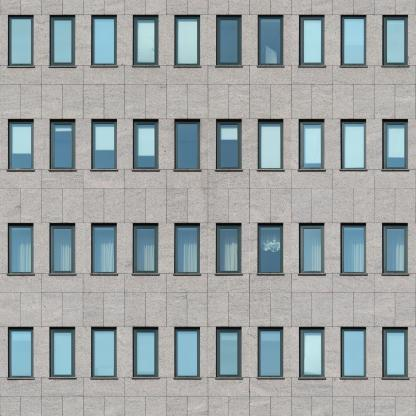Building Outline: (0, 0, 415, 415)
Facade: (0, 0, 416, 416)
Floor: (0, 301, 416, 397), (0, 93, 416, 188), (0, 198, 416, 293), (0, 0, 416, 84), (0, 405, 415, 416)
Floor Slab: (0, 397, 416, 406), (0, 84, 416, 93), (0, 189, 416, 198), (0, 293, 416, 302)
Window: (382, 327, 408, 378), (91, 327, 117, 378), (174, 327, 200, 378), (382, 15, 408, 66), (91, 15, 117, 66), (174, 15, 200, 66), (382, 119, 408, 170), (91, 119, 117, 170), (174, 119, 200, 170), (382, 223, 408, 274), (91, 223, 117, 274), (174, 223, 200, 274), (8, 327, 33, 378), (50, 327, 75, 378), (133, 327, 158, 378), (216, 327, 241, 378), (258, 327, 283, 378), (299, 327, 324, 378), (341, 327, 366, 378), (8, 15, 33, 66), (50, 15, 75, 66), (133, 15, 158, 66), (216, 15, 241, 66), (258, 15, 283, 66), (299, 15, 324, 66), (341, 15, 366, 66), (8, 119, 33, 170), (50, 119, 75, 170), (133, 119, 158, 170), (216, 119, 241, 170), (258, 119, 283, 170), (299, 119, 324, 170), (341, 119, 366, 170), (8, 223, 33, 274), (50, 223, 75, 274), (133, 223, 158, 274), (216, 223, 241, 274), (258, 223, 283, 274), (299, 223, 324, 274), (341, 223, 366, 274)
